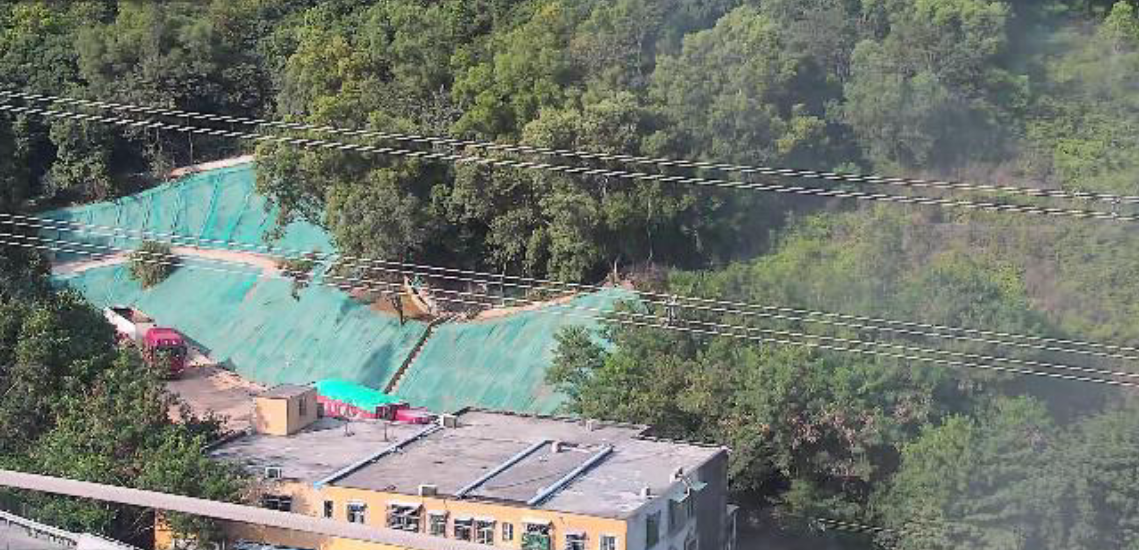绿膜: (48, 265, 391, 415), (392, 283, 650, 416), (31, 158, 344, 266)
